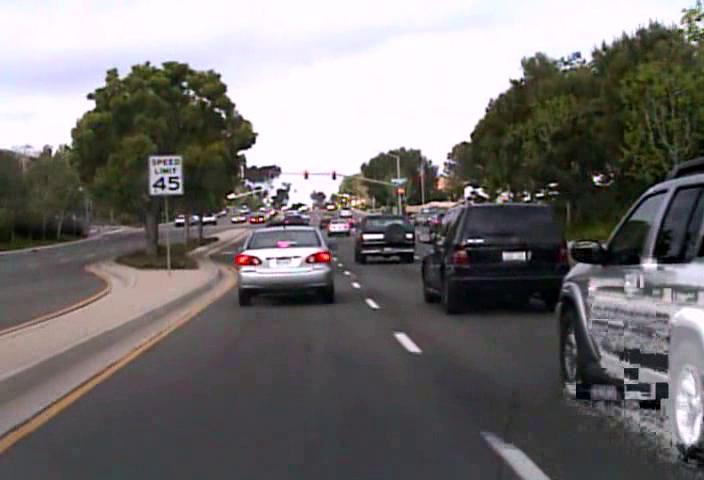speedLimit45: (149, 154, 183, 194)
